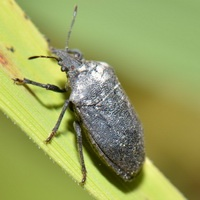insect: (29, 6, 144, 181)
